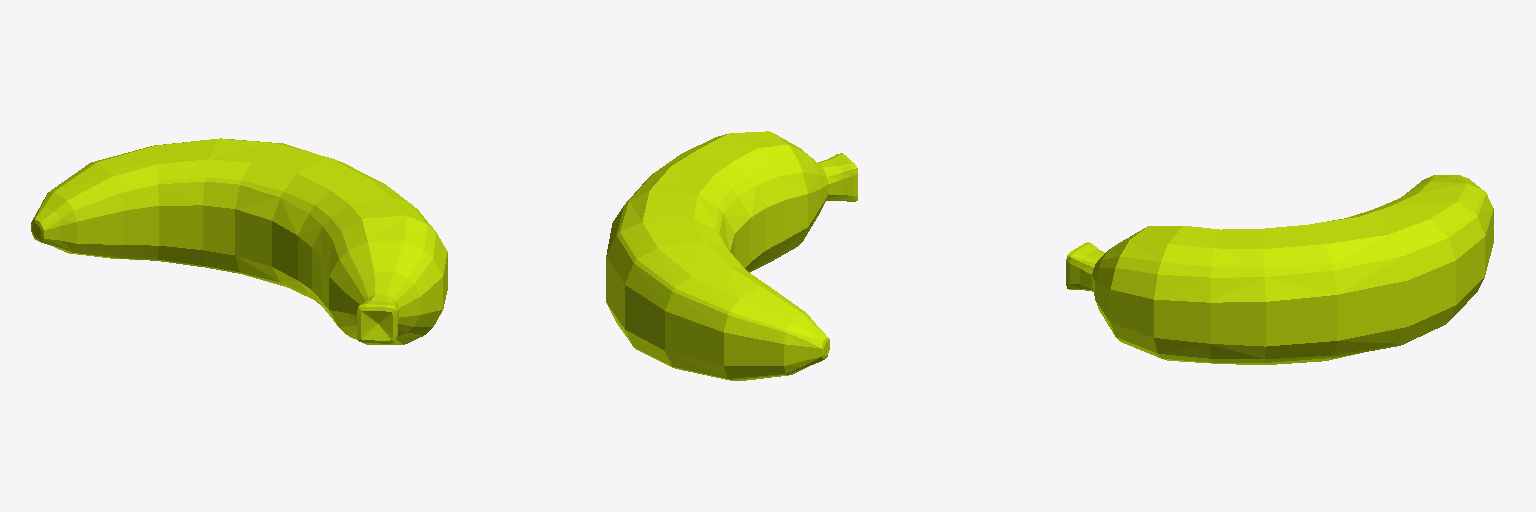
The model's file is banana.obj.
The picture shows the model from 3 angles: view 1: azimuth 30°, elevation 25°; view 2: azimuth 150°, elevation 25°; view 3: azimuth 270°, elevation 25°; orthographic projection.
Visible parts, largest first — view 1: Banana; view 2: Banana; view 3: Banana.
Boxes of the visible parts, <box> form: Banana: <box>31,138,447,344</box>; Banana: <box>606,131,857,380</box>; Banana: <box>1066,175,1493,364</box>.
Size of the model in its own units: 7.61 by 3.04 by 10.07.